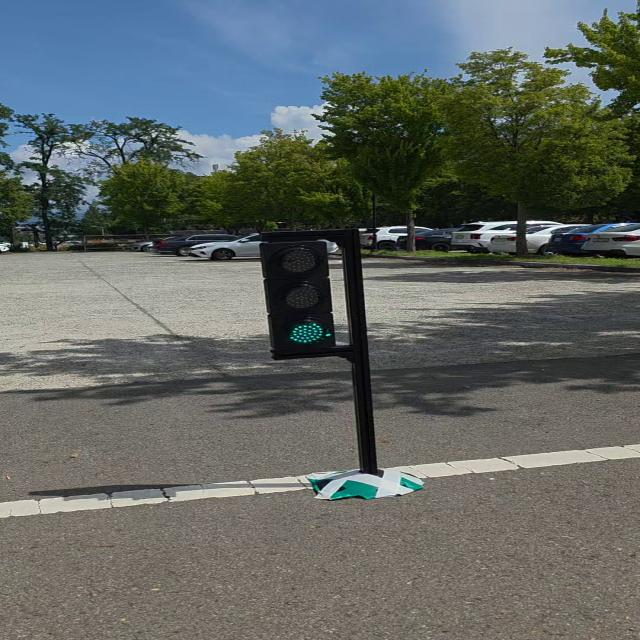green: (262, 238, 336, 361)
